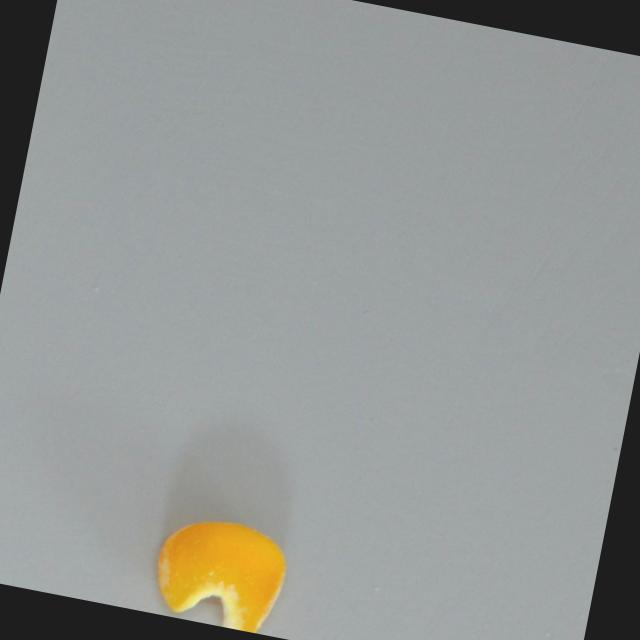dañado: (140, 506, 298, 638)
